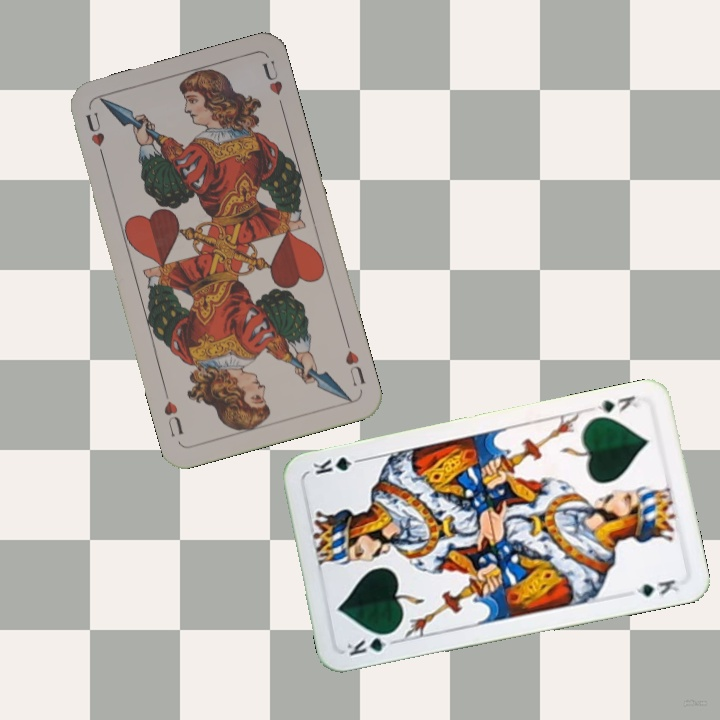GK: (342, 628, 400, 659), (593, 391, 642, 416)
HU: (81, 107, 108, 164), (341, 335, 368, 390)
